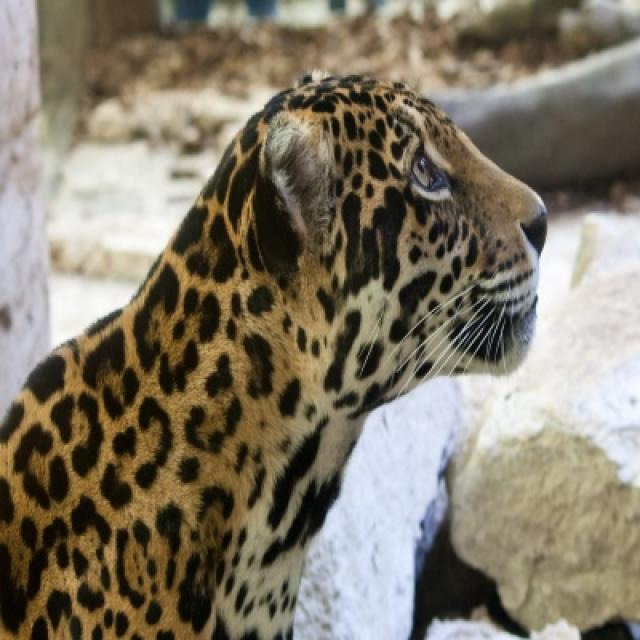Jaguar: (0, 72, 549, 638)
